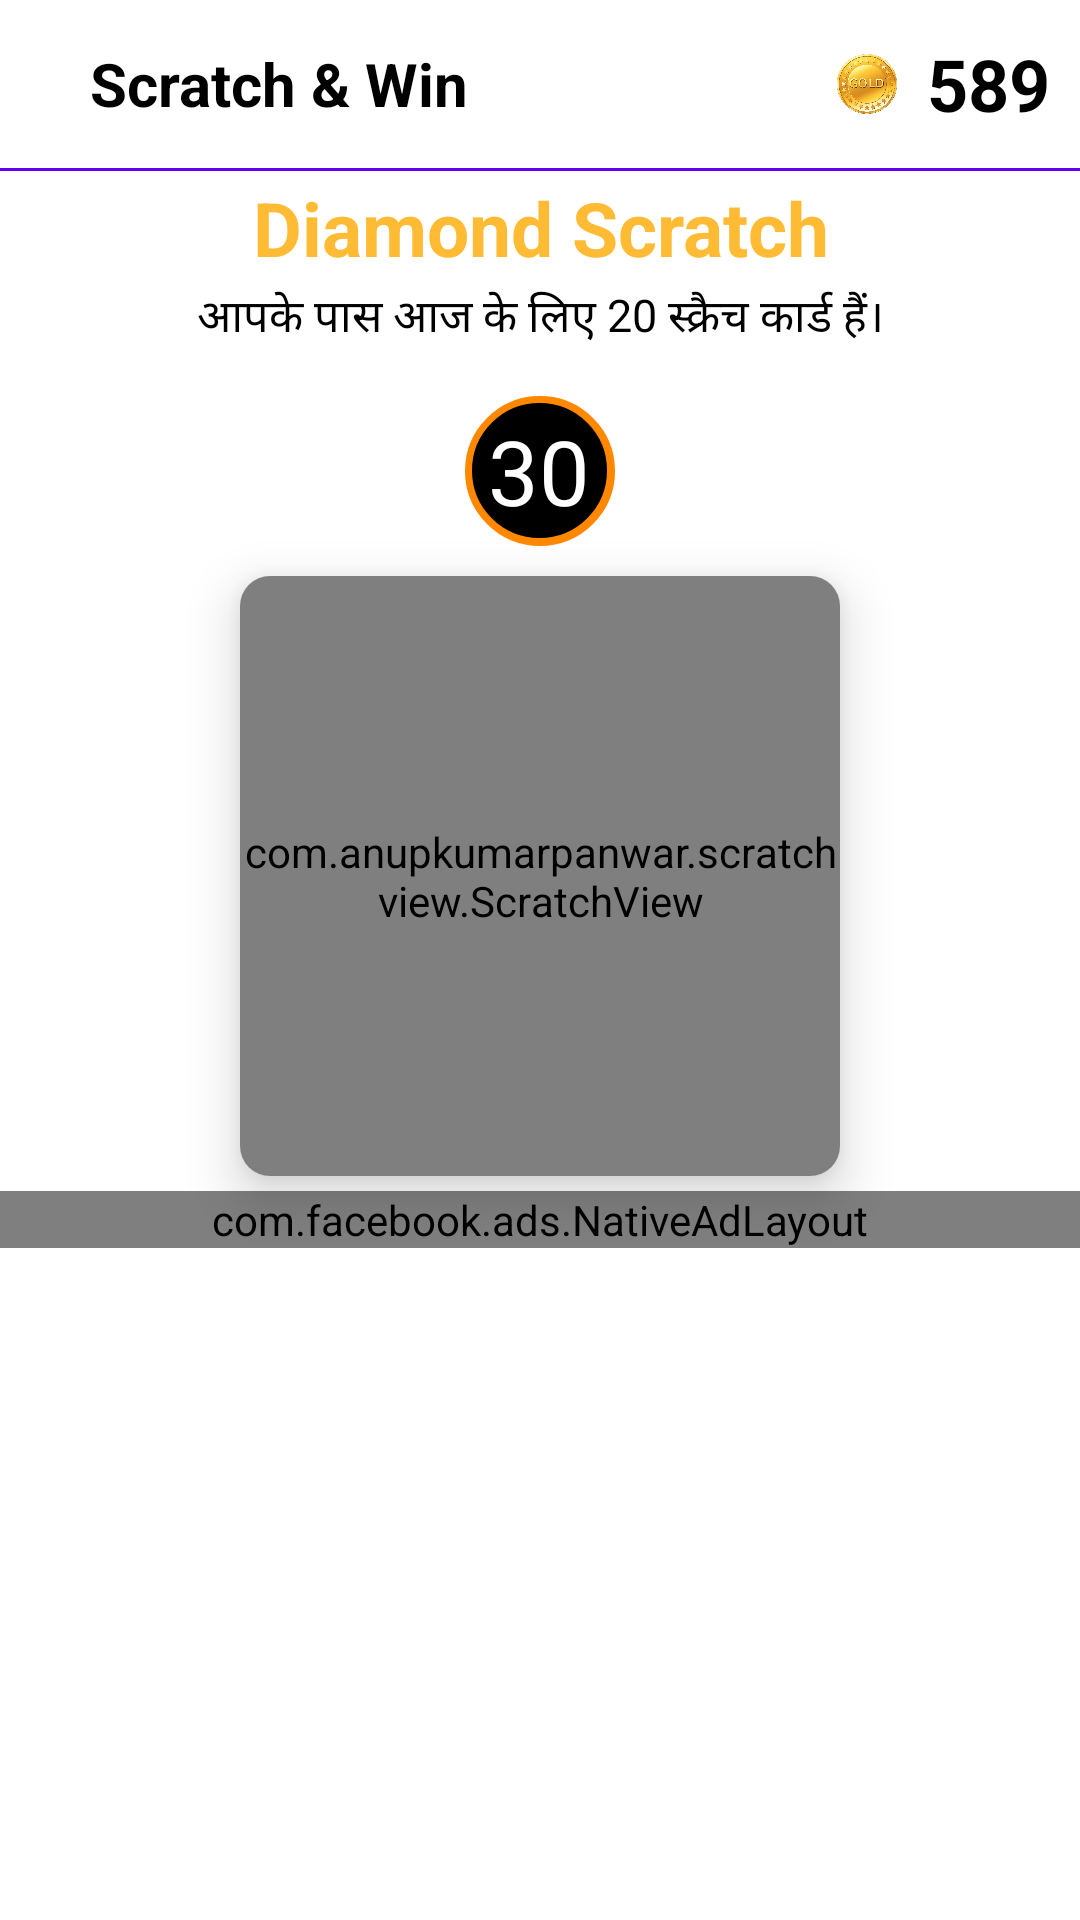

Icons on this 1080x1920 Android screen, each with its box as (x1, y1, x2, y2):
coin: (837, 54, 897, 114)
